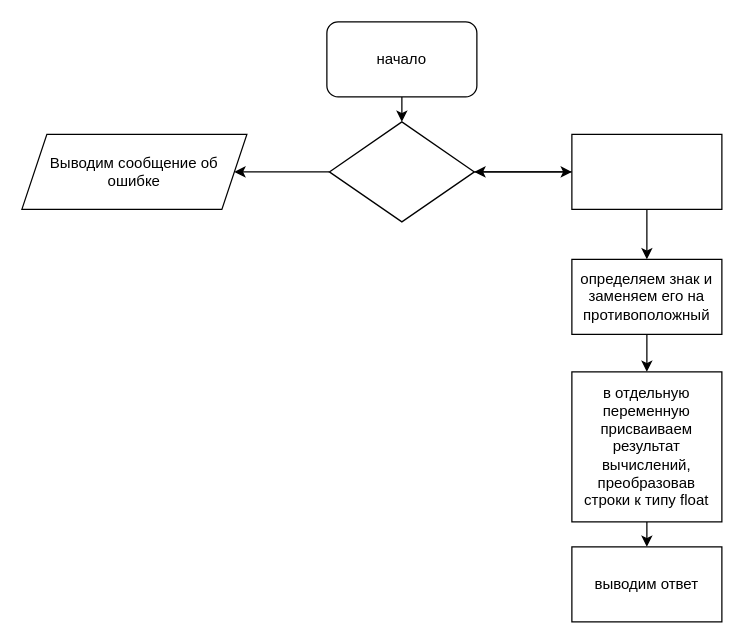
This 744x644 diagram has some shape labels left out. The box of each missing label's shape, as (x1, y1, x2, y2) in pixels:
есть ли знак =: (328, 121, 474, 222)
разбиваем уравнение по знаку равенства: (571, 133, 722, 209)
